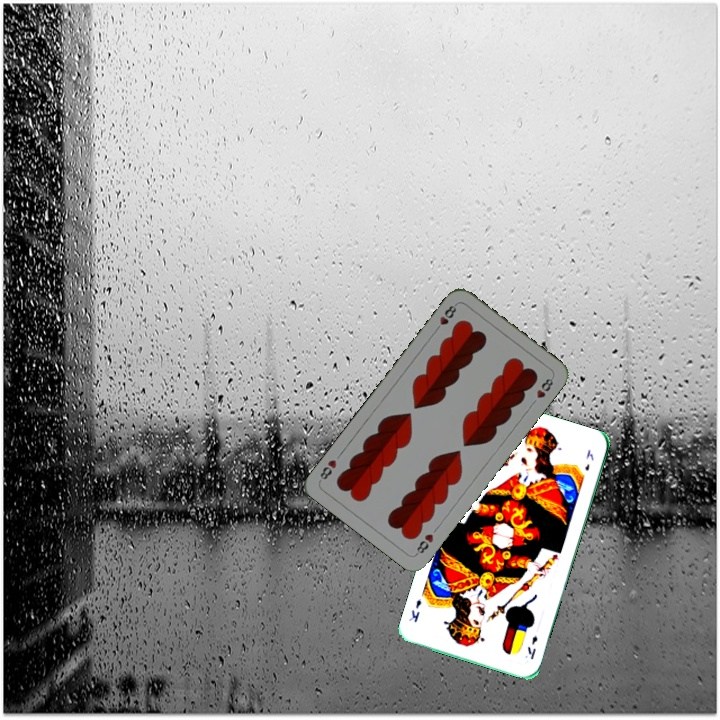EK: (523, 631, 540, 662)
H8: (431, 300, 460, 335), (412, 530, 436, 558)
